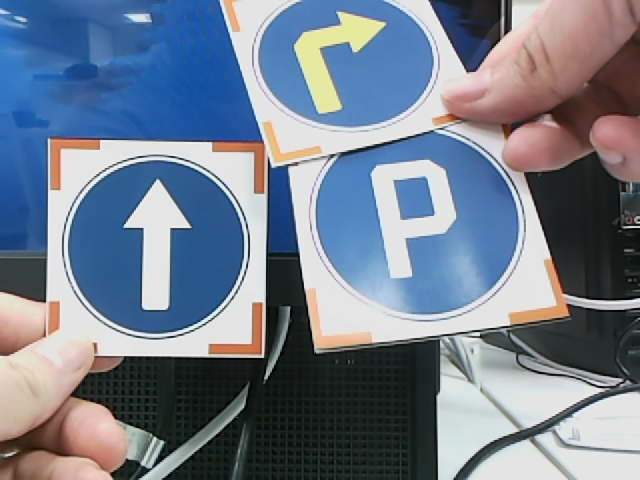go: (62, 154, 250, 339)
park: (306, 129, 527, 323)
right: (253, 1, 440, 131)
